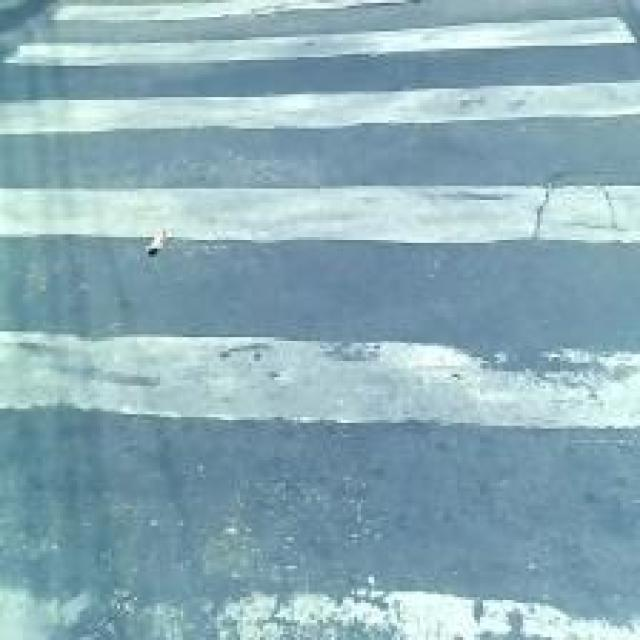crosswalk: (2, 0, 640, 640)
